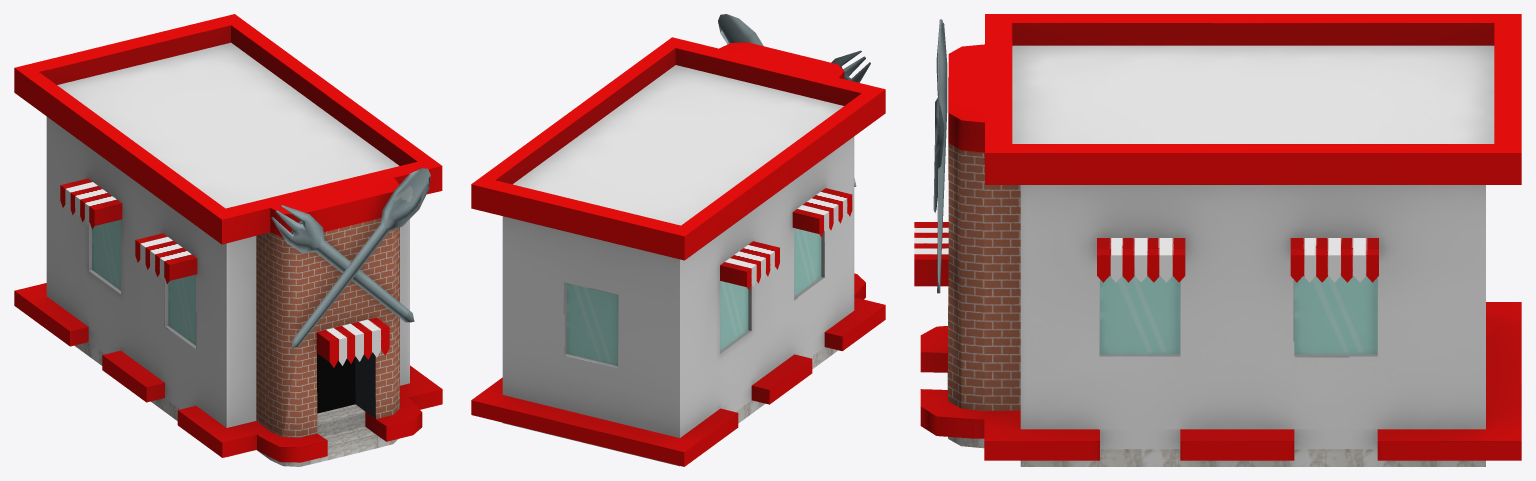
The model's file is mini-restaurant.fbx.
3 views of the same model, side by side, from view 1: azimuth 30°, elevation 25°; view 2: azimuth 150°, elevation 25°; view 3: azimuth 270°, elevation 25° (orthographic). The views are drawn at different scales.
Parts seen in each view (by area): view 1: restaurant2; view 2: restaurant2; view 3: restaurant2.
Boxes of the visible parts, x1,y1,x2,y2 form: restaurant2: (14,14,442,466); restaurant2: (471,14,885,466); restaurant2: (914,14,1521,466).
Bounding box in the file's own units: 3.18 × 3.47 × 5.43.
